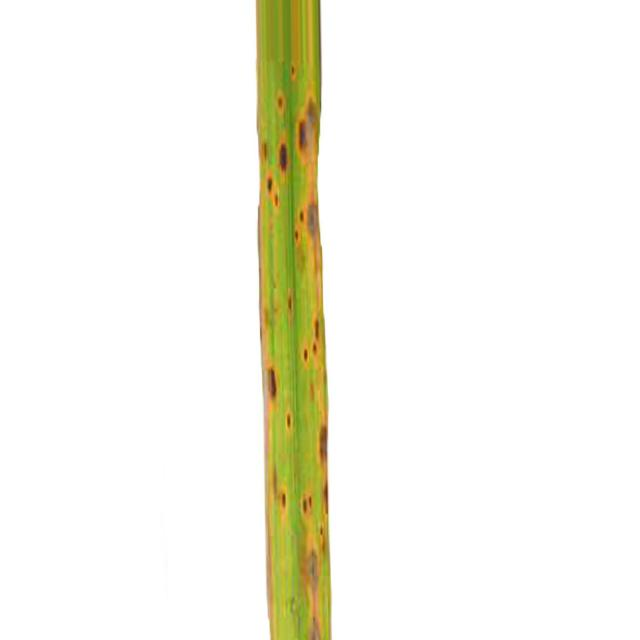Brown_Spot: (296, 99, 320, 164), (300, 201, 319, 243), (301, 550, 319, 594), (296, 340, 319, 370), (309, 616, 330, 639), (270, 90, 288, 115), (260, 170, 280, 192), (290, 222, 308, 246), (265, 368, 276, 404), (320, 475, 329, 515), (259, 140, 274, 164), (319, 425, 328, 461), (312, 316, 320, 354), (279, 144, 289, 170), (301, 494, 312, 514), (286, 289, 295, 309), (290, 61, 298, 82), (285, 411, 292, 429), (280, 492, 286, 509)
